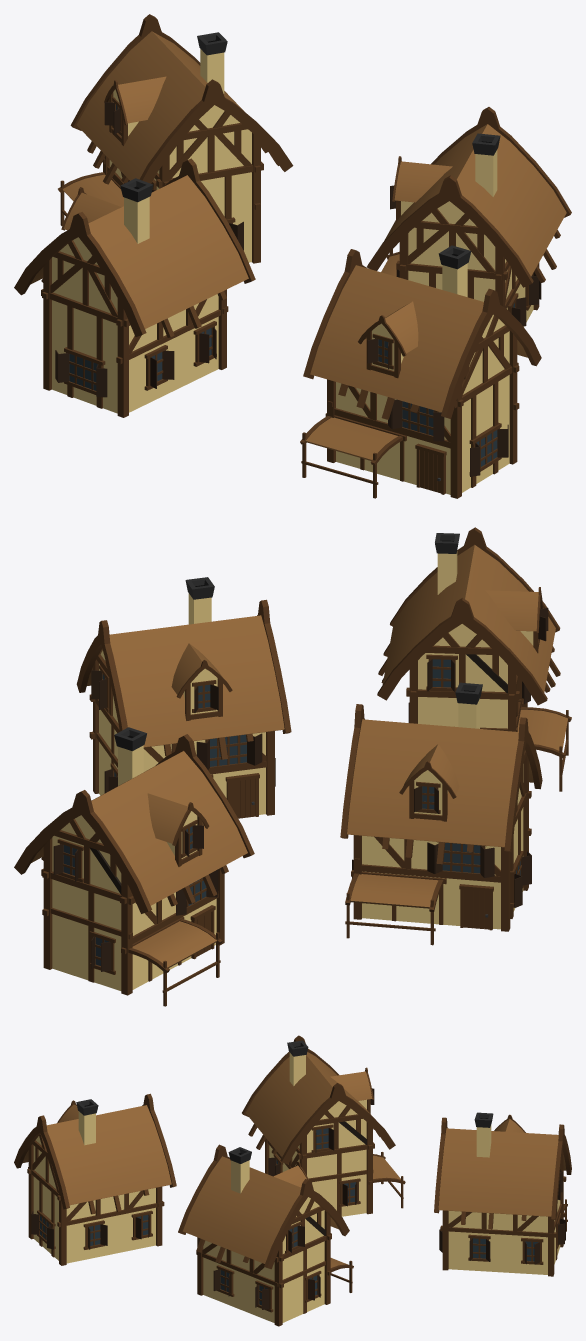
Rendered from houses_byzantine.obj.
The picture shows the model from 3 angles, top to bottom: view 1: azimuth 30°, elevation 25°; view 2: azimuth 150°, elevation 25°; view 3: azimuth 270°, elevation 25°; orthographic projection. The views are drawn at different scales.
Visible parts, largest first — view 1: pCube6548.001_Untitled.002, pCube6453.001_Untitled.000, pCube6548_Untitled.009, pCube6453.002_Untitled.001; view 2: pCube6548_Untitled.009, pCube6453.001_Untitled.000, pCube6453.002_Untitled.001, pCube6548.001_Untitled.002; view 3: pCube6453.002_Untitled.001, pCube6548.001_Untitled.002, pCube6548_Untitled.009, pCube6453.001_Untitled.000.
Part boxes in pixels (x1,y1,x2,y2): pCube6548.001_Untitled.002: [300, 245, 541, 498]; pCube6453.001_Untitled.000: [14, 158, 255, 417]; pCube6548_Untitled.009: [58, 14, 293, 263]; pCube6453.002_Untitled.001: [367, 107, 571, 326]; pCube6548_Untitled.009: [14, 727, 254, 1006]; pCube6453.001_Untitled.000: [340, 682, 542, 945]; pCube6453.002_Untitled.001: [76, 577, 291, 818]; pCube6548.001_Untitled.002: [377, 527, 571, 791]; pCube6453.002_Untitled.001: [178, 1144, 353, 1326]; pCube6548.001_Untitled.002: [14, 1093, 176, 1265]; pCube6548_Untitled.009: [434, 1112, 571, 1276]; pCube6453.001_Untitled.000: [242, 1035, 405, 1216].
Size of the model in its own units: 31.75 by 12.69 by 43.63.
